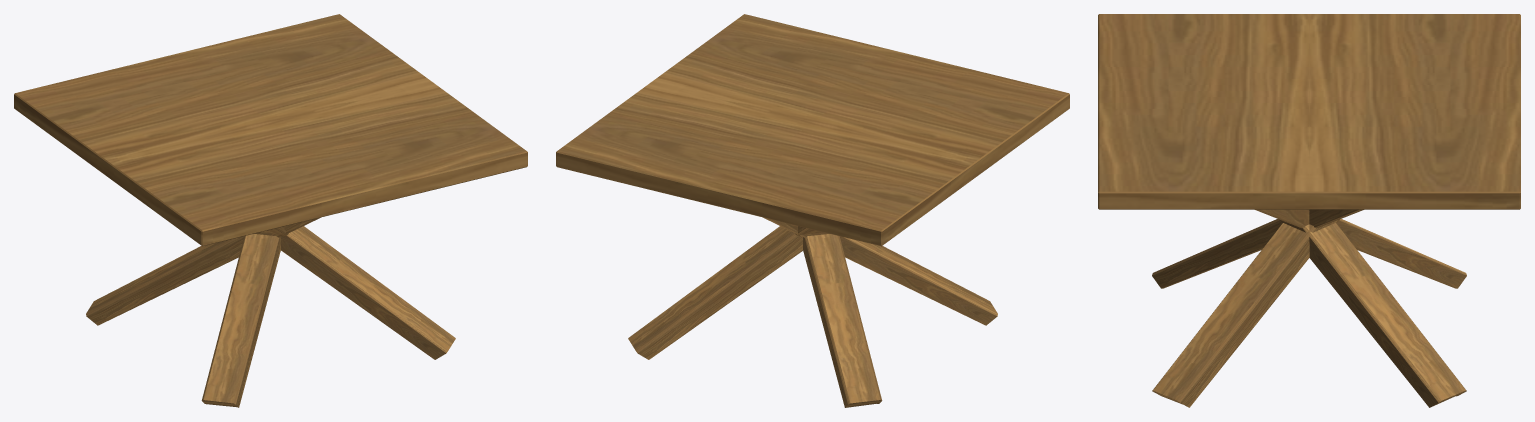
File: square-elm.glb
3 views of the same model, side by side, from view 1: azimuth 30°, elevation 25°; view 2: azimuth 150°, elevation 25°; view 3: azimuth 270°, elevation 25° (orthographic). The views are drawn at different scales.
Visible parts, largest first — view 1: Wood_Square, Base_Square; view 2: Wood_Square, Base_Square; view 3: Wood_Square, Base_Square.
Boxes of the visible parts, box(x1,y1,x2,y2) form: Wood_Square: box(14, 14, 527, 246); Base_Square: box(86, 217, 455, 407); Wood_Square: box(556, 14, 1069, 246); Base_Square: box(628, 217, 997, 407); Wood_Square: box(1098, 14, 1520, 209); Base_Square: box(1152, 209, 1466, 407).
Size of the model in its own units: 1.22 by 0.762 by 1.22.
Materials: 1 (1 with a texture image).
